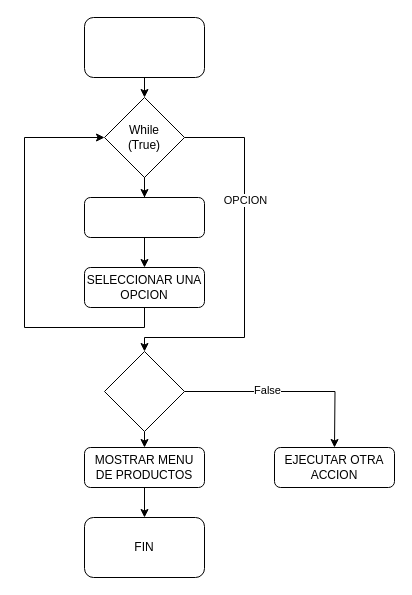
Some shapes in this 412 by 595 pixel diagram are drawn without their labels. The shapes that lost their labels are listed below. From the top down, each one's centre as x and y in pixels, then its label:
point (144, 47): INICIO
point (144, 217): MENU PRINCIPAL
point (144, 391): OPCION=4
